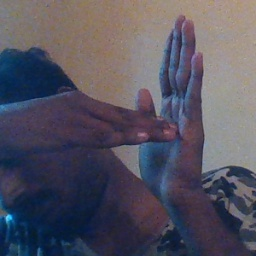Z: (71, 14, 215, 195)
